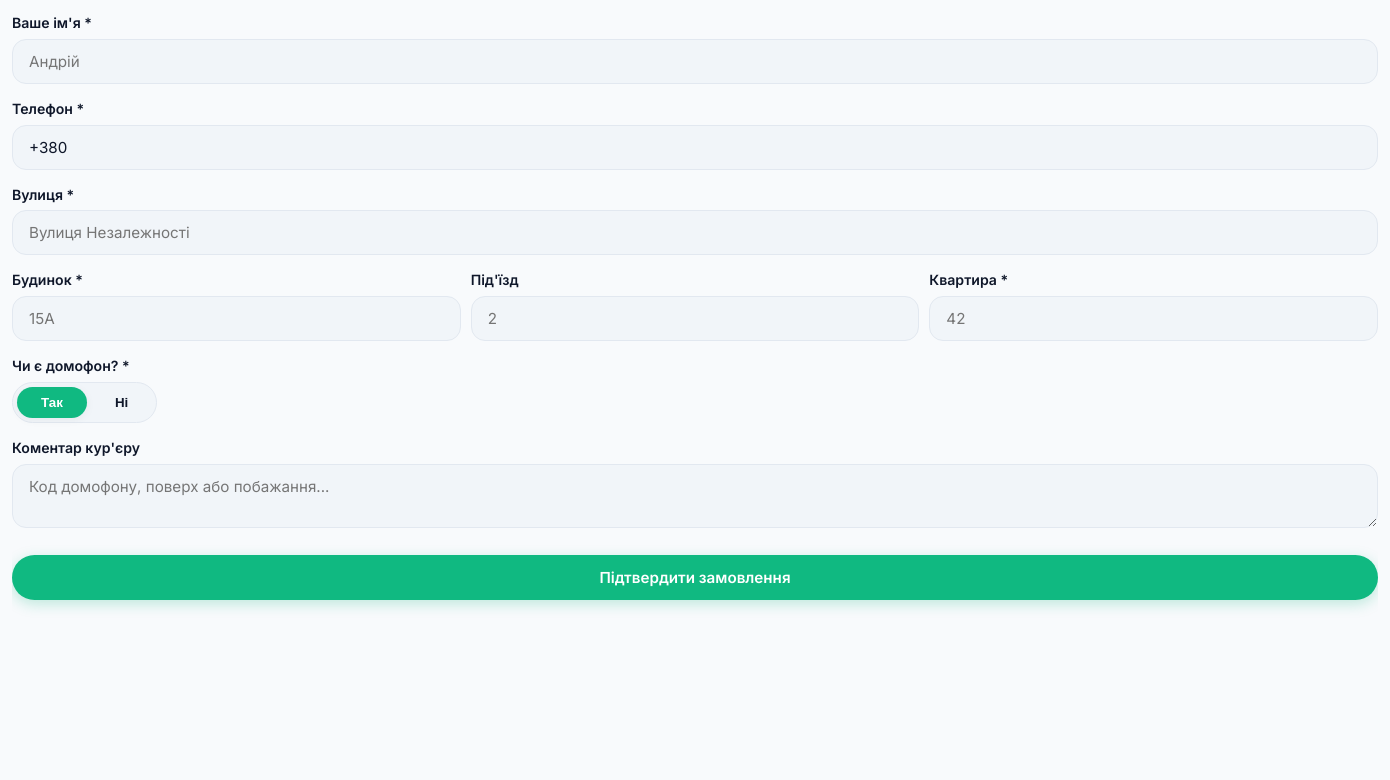
Dragon Food — Модульне та компонентне тестування › 4. Відхиляє некоректний формат українського номера телефону
This screenshot has width=1390, height=780.
Replace the text in the field labelled "Телефон *" with "12345": (695, 147) [12,125,1378,170]
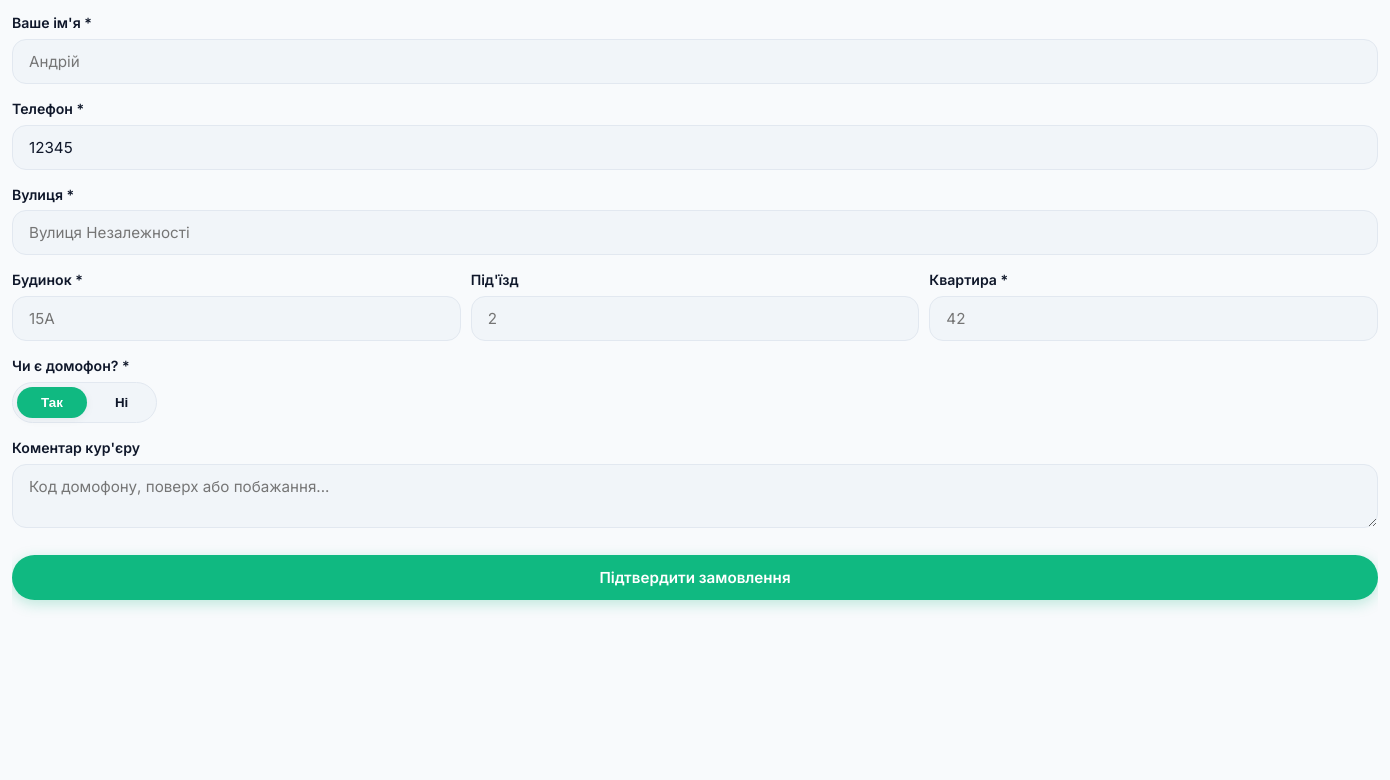
Click the button "Підтвердити замовлення": click(695, 577) [12,555,1378,600]
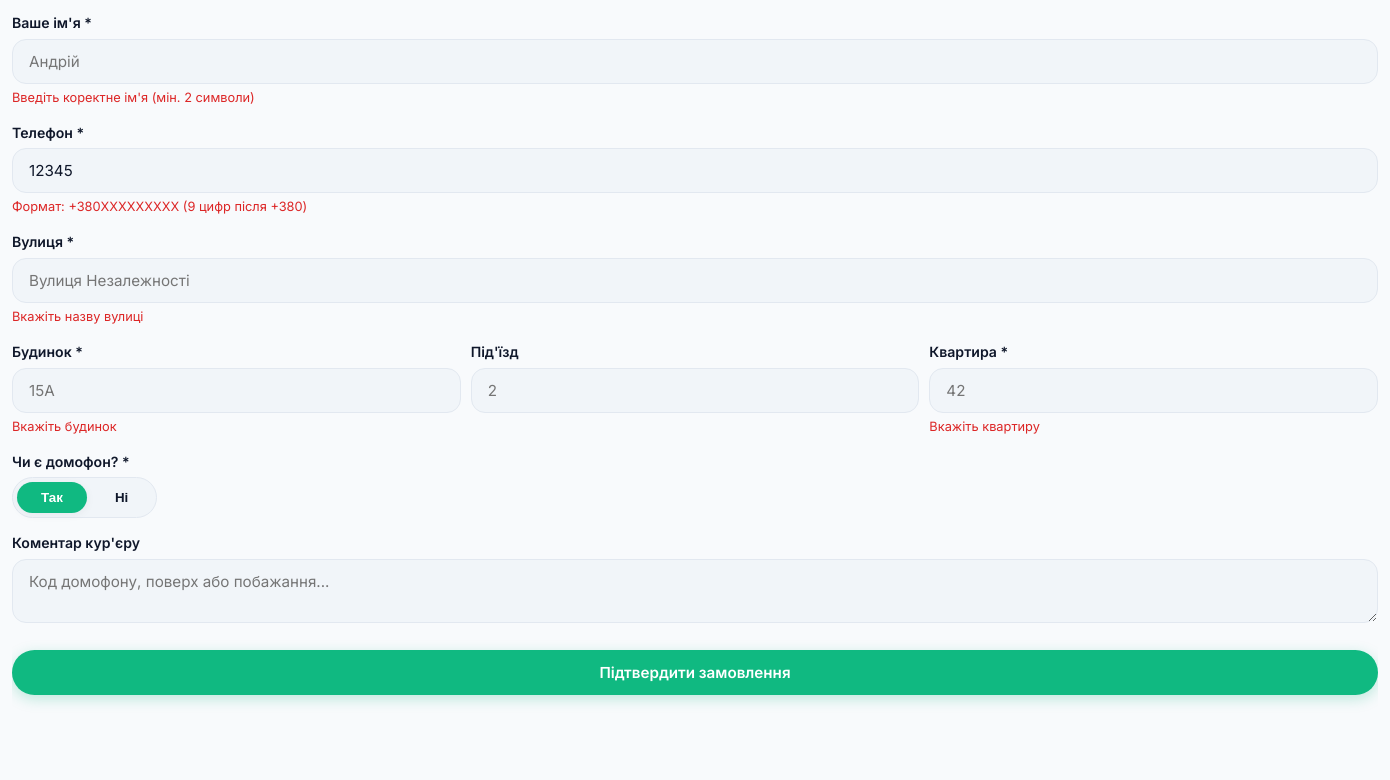
Result: the text "Формат: +380XXXXXXXXX (9 цифр після +380)" is shown at [12,200,307,214]
